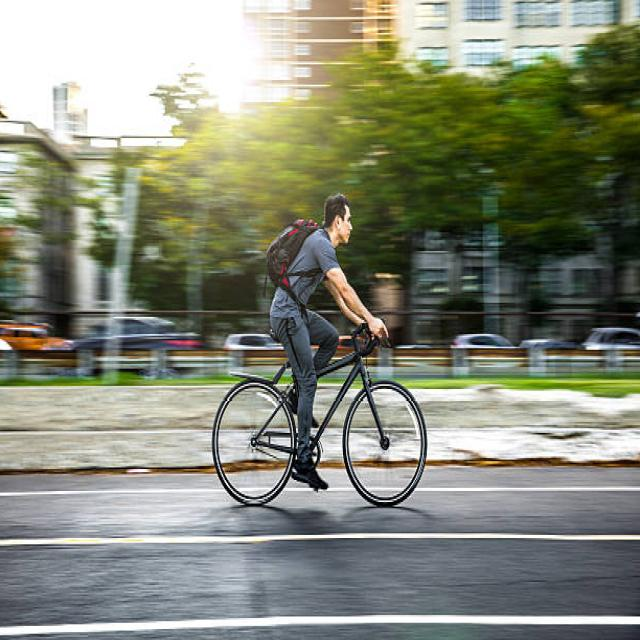bicycle: (212, 195, 428, 506)
